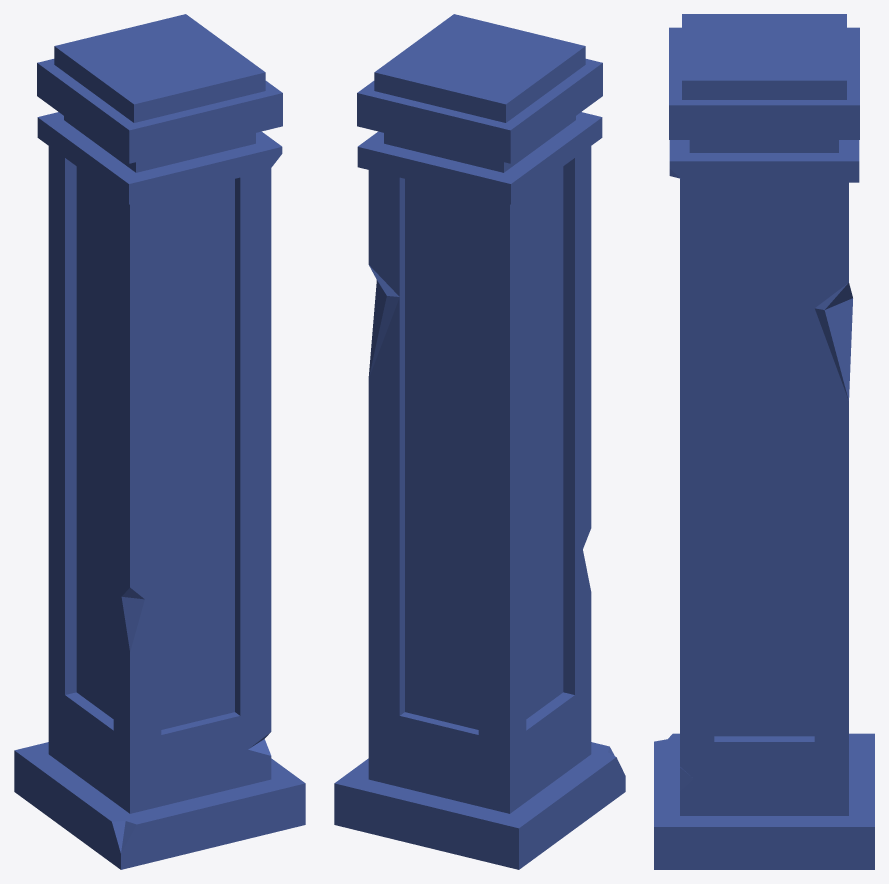
File: pillar02.fbx
The picture shows the model from 3 angles, left to right: view 1: azimuth 30°, elevation 25°; view 2: azimuth 150°, elevation 25°; view 3: azimuth 270°, elevation 25°; orthographic projection. The views are drawn at different scales.
Parts seen in each view (by area): view 1: Pillar_01; view 2: Pillar_01; view 3: Pillar_01.
Part boxes in pixels (bbox=[...]): Pillar_01: bbox=[14, 14, 305, 869]; Pillar_01: bbox=[334, 14, 625, 869]; Pillar_01: bbox=[654, 14, 874, 869].
Bounding box in the file's own units: 103 × 399 × 103.
